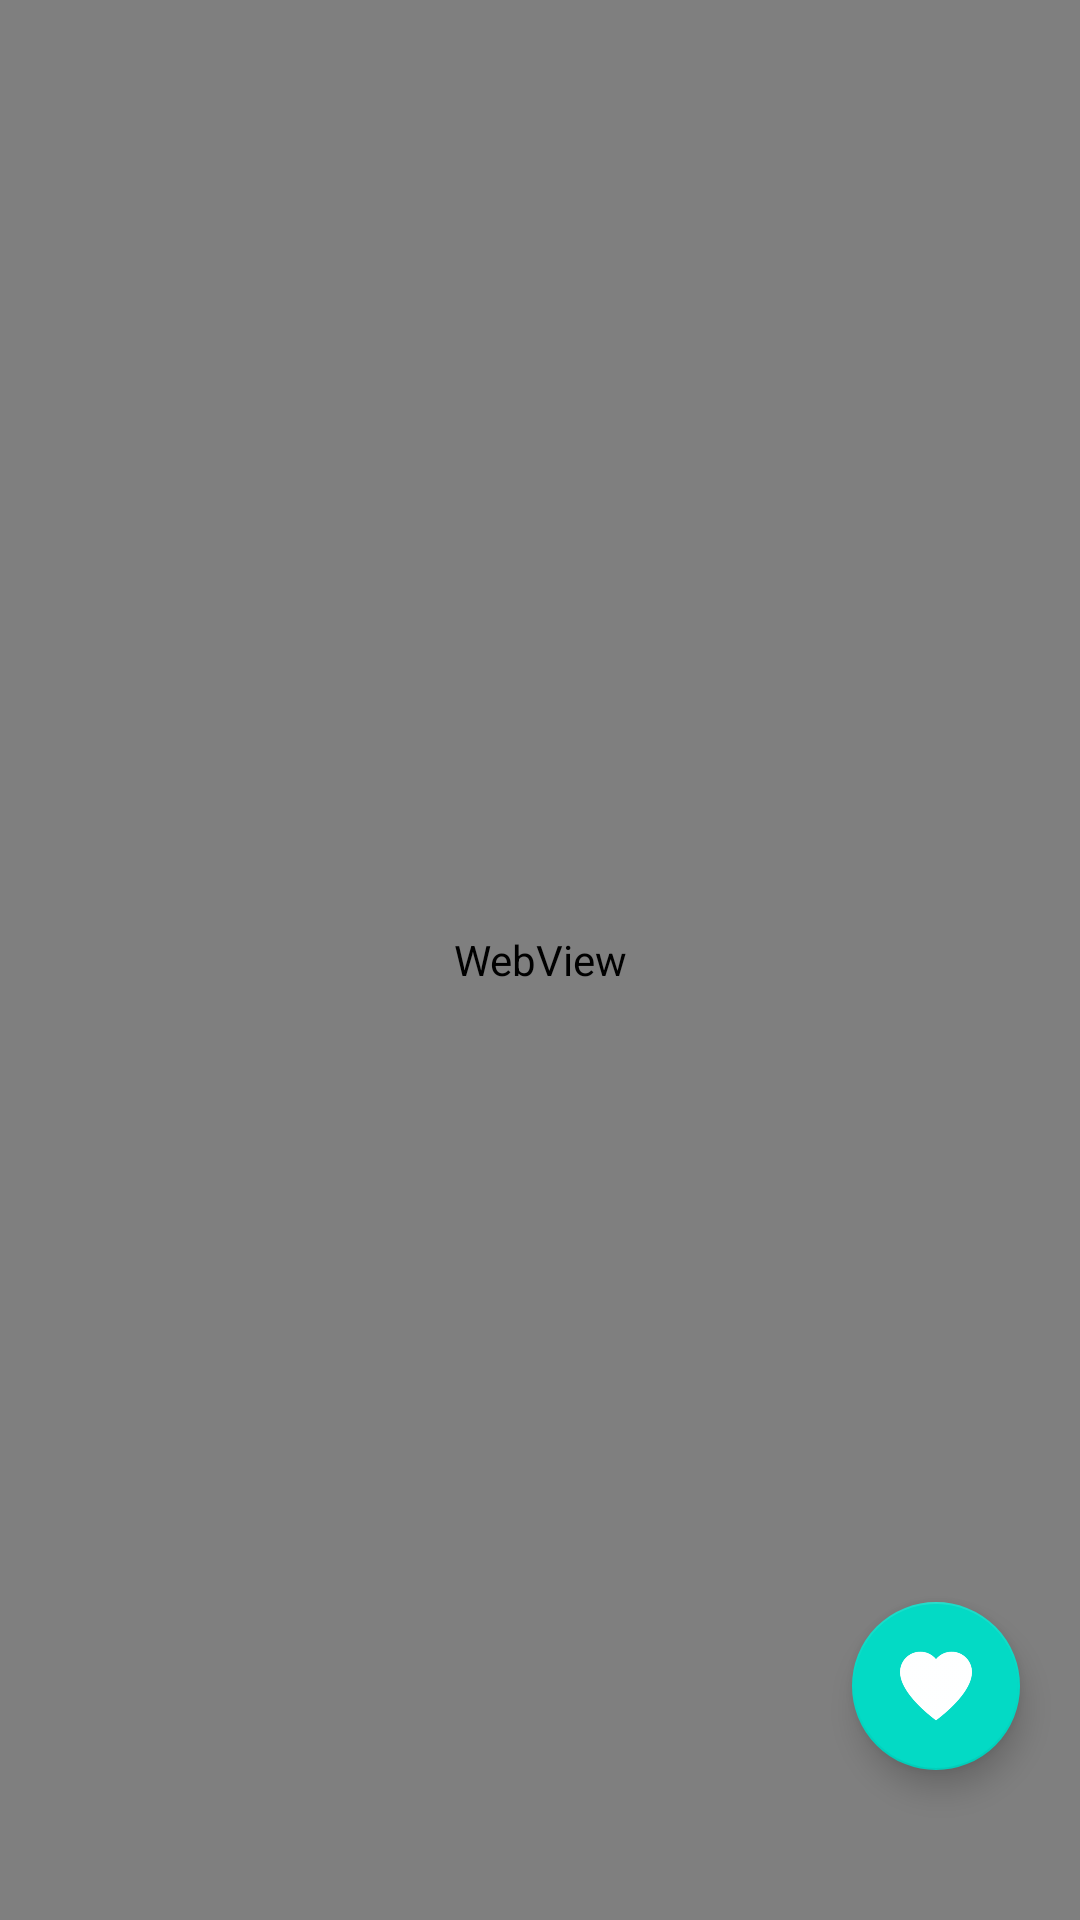

Locate icon controls on the screen. Image size 1080px x 1920px, boxes as (x1, y1, x2, y2).
favorite: (852, 1602, 1020, 1770)
